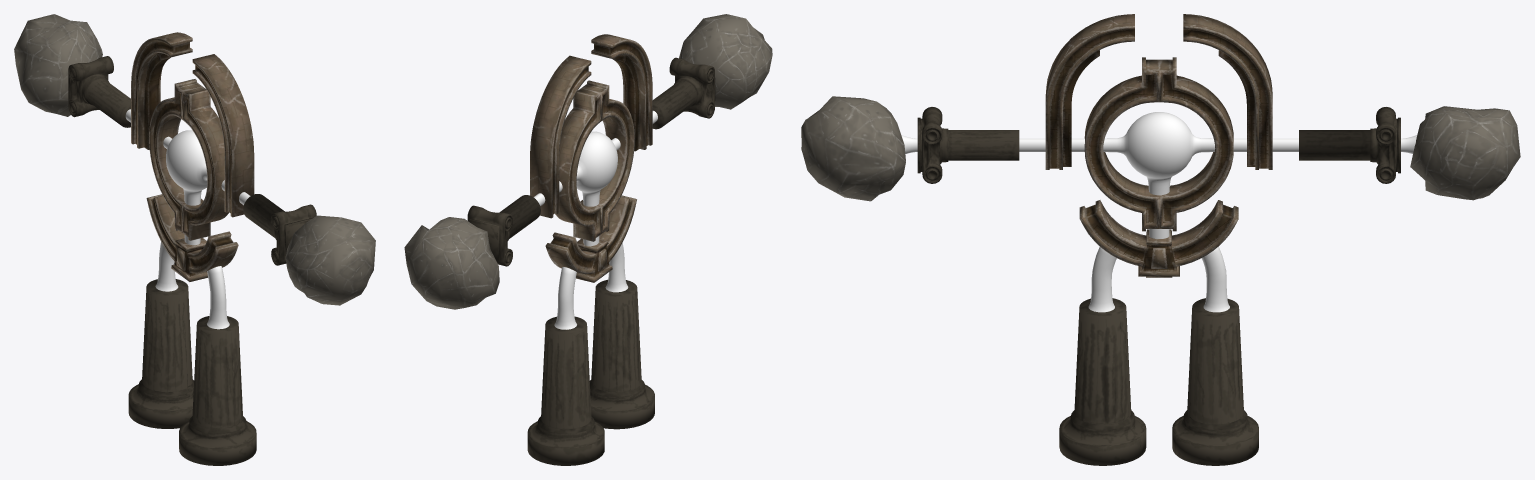
Rendered from Modelo Jefe.fbx.
3 renders of one model, left to right at view 1: azimuth 30°, elevation 25°; view 2: azimuth 150°, elevation 25°; view 3: azimuth 270°, elevation 25°, orthographic. The views are drawn at different scales.
Parts seen in each view (by area): view 1: pieza 2, pieza 1, pieza 3, cuerpo; view 2: pieza 2, pieza 1, pieza 3, cuerpo; view 3: pieza 2, pieza 1, pieza 3, cuerpo.
Boxes of the visible parts, left/top/right/bottom form: pieza 2: left=68, top=56, right=316, bottom=465; pieza 1: left=131, top=32, right=254, bottom=281; pieza 3: left=14, top=14, right=375, bottom=305; cuerpo: left=125, top=109, right=250, bottom=329; pieza 2: left=467, top=57, right=715, bottom=465; pieza 1: left=530, top=34, right=652, bottom=282; pieza 3: left=404, top=14, right=772, bottom=309; cuerpo: left=533, top=110, right=657, bottom=329; pieza 2: left=917, top=107, right=1400, bottom=465; pieza 1: left=1045, top=14, right=1272, bottom=277; pieza 3: left=801, top=96, right=1520, bottom=201; cuerpo: left=901, top=112, right=1417, bottom=312.
Bounding box in the file's own units: 106 × 510 × 777.
5 materials, 4 textured.
